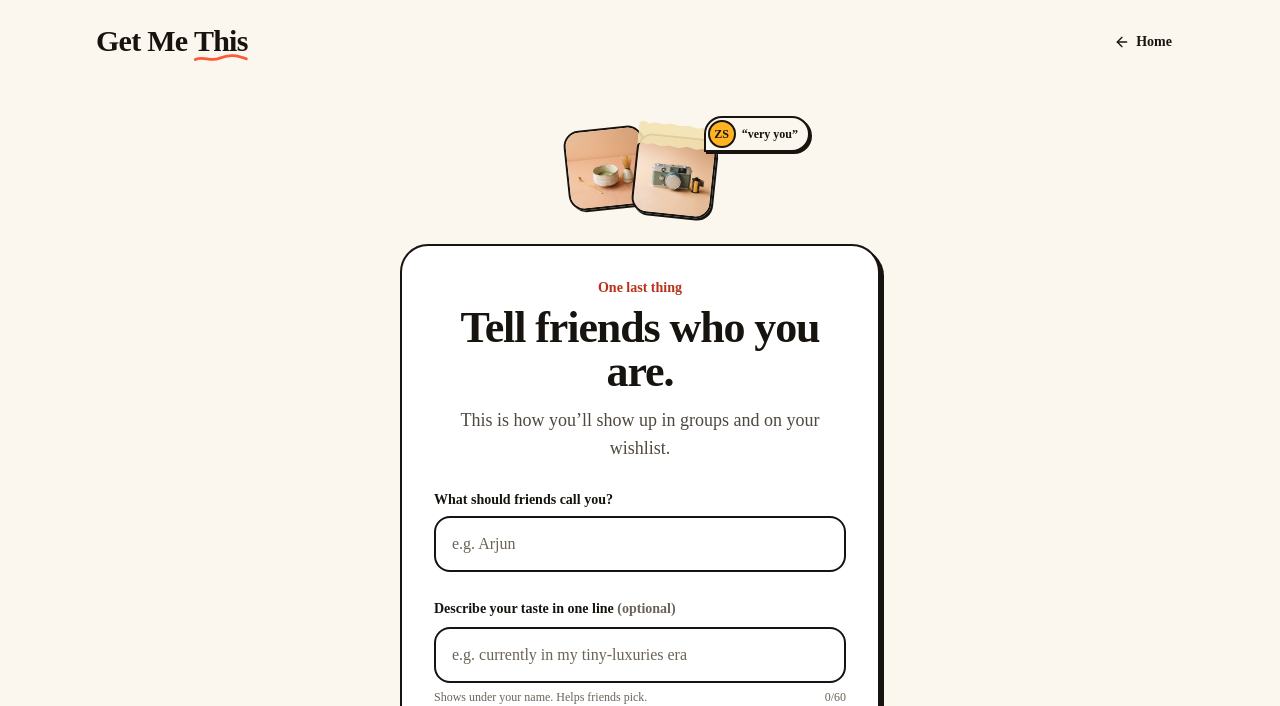
Test: OnboardingForm › keeps the error visible when a touched name is emptied again
Type "Arjun" into the field labelled "What should friends call you?" at [640, 544], box [434, 516, 846, 572]
(page scrolled)
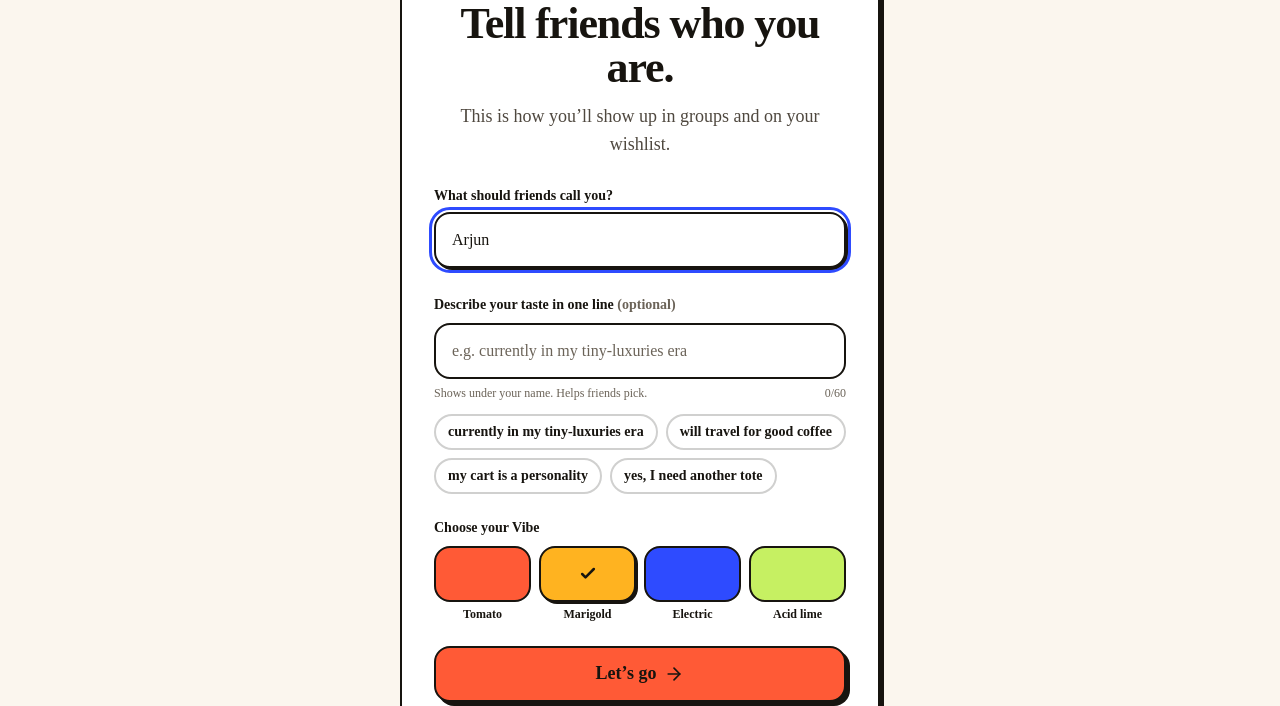
Click the button "Let’s go" at [640, 674], box [434, 646, 846, 702]
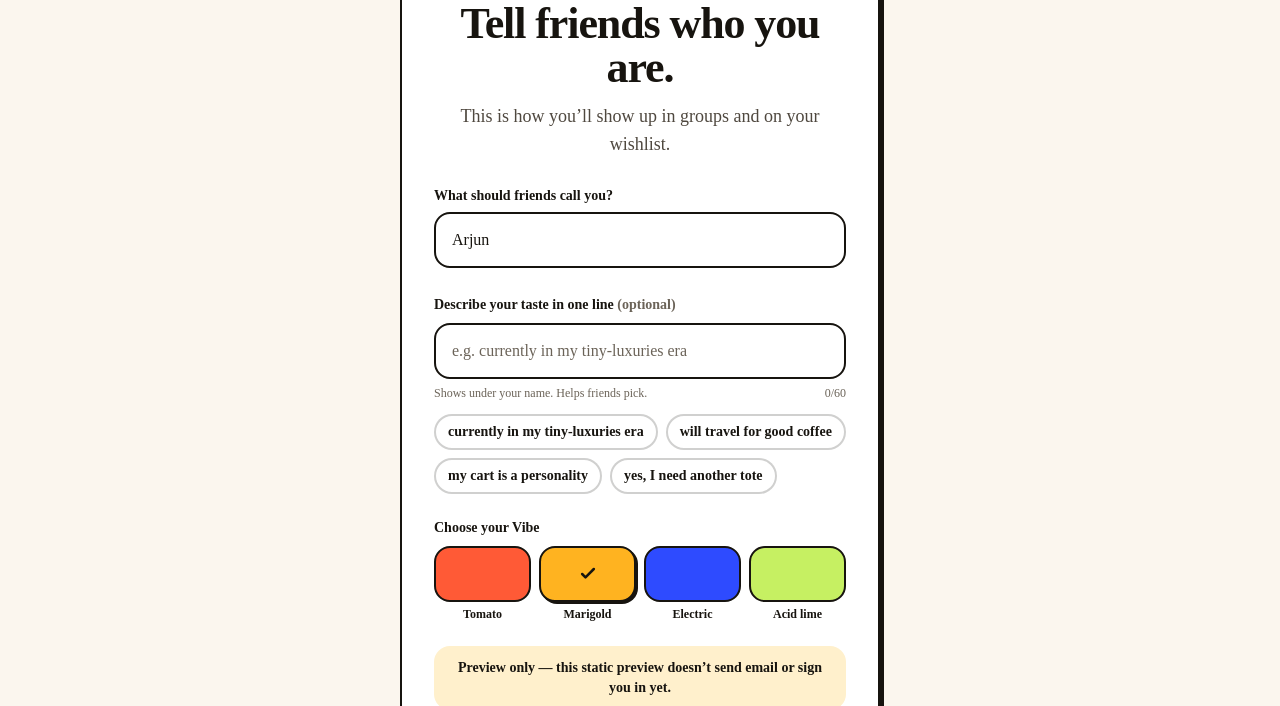
Clear the field labelled "What should friends call you?" at [640, 240], box [434, 212, 846, 268]
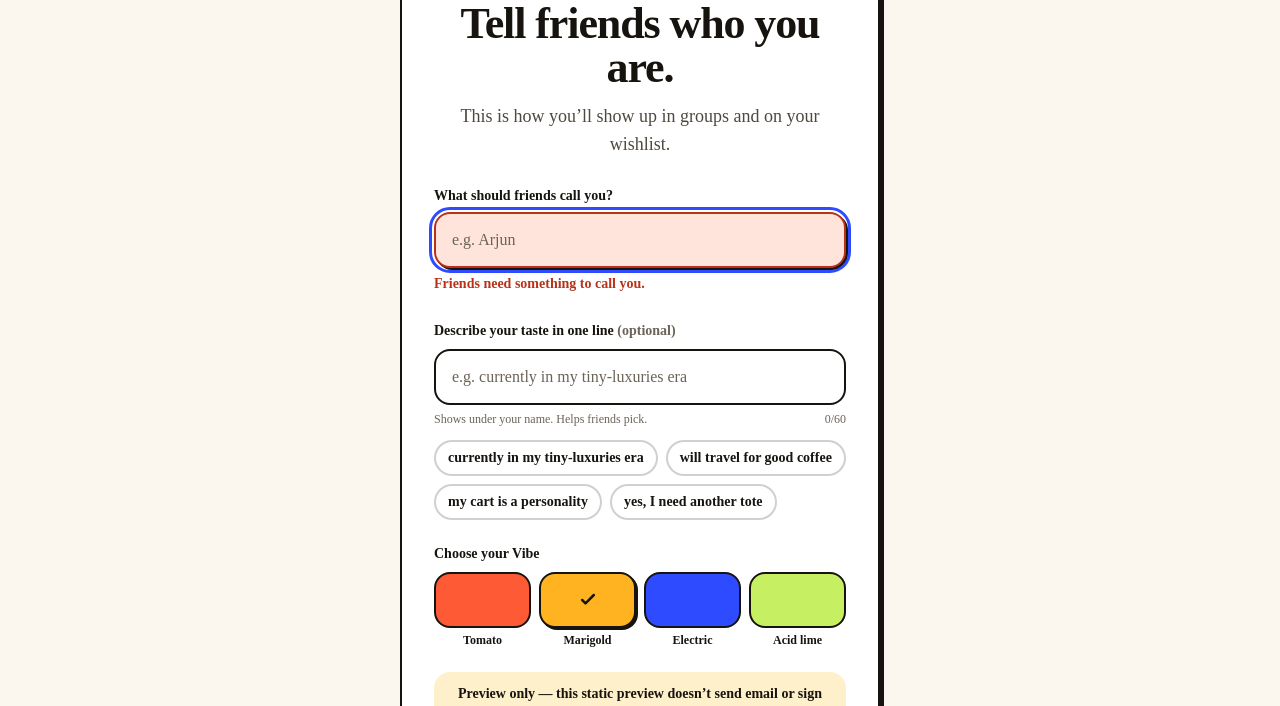
expect the message "Friends need something to call you." is shown: met, box [434, 276, 645, 291]
